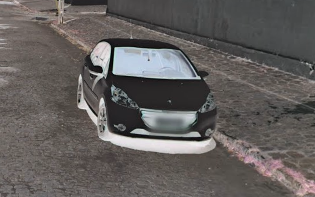car: (74, 18, 218, 146)
